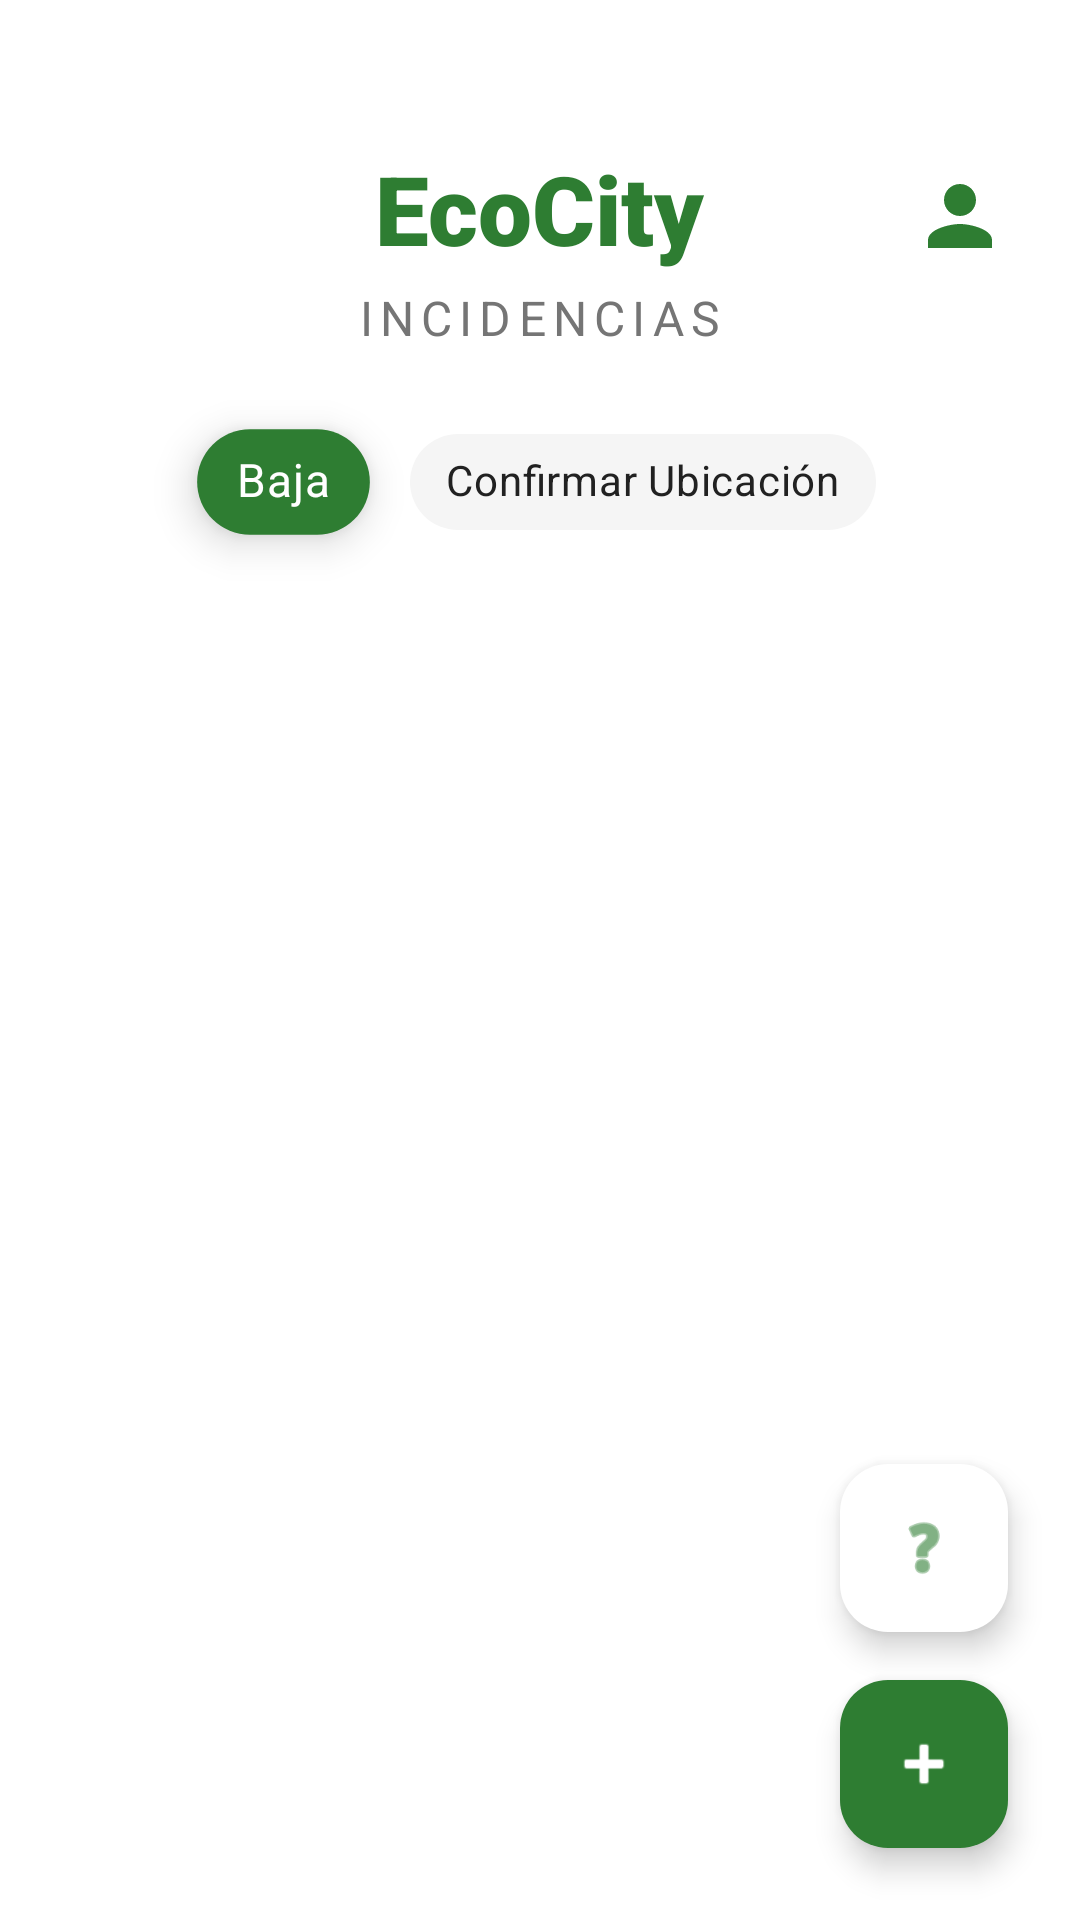

Screen size 1080 x 1920. Icon name, then its center in pixels as (x=x, y=y):
Añadir Incidencia: (x=924, y=1764)
Soporte: (x=924, y=1548)
